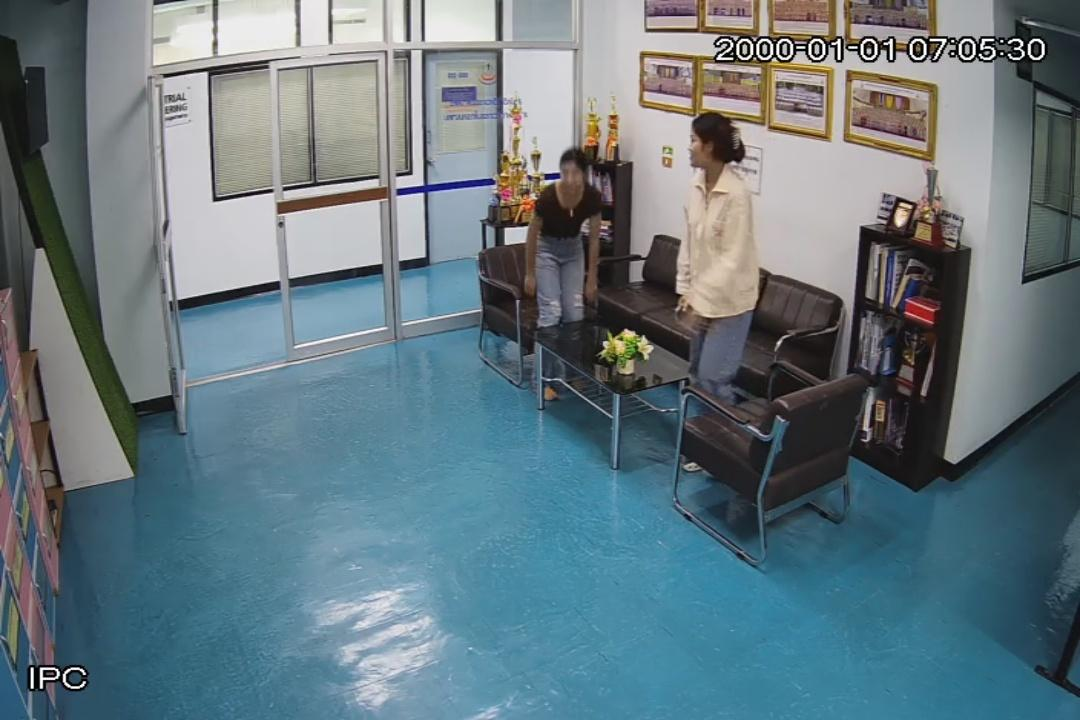normal: (670, 102, 766, 438), (520, 140, 614, 416)
